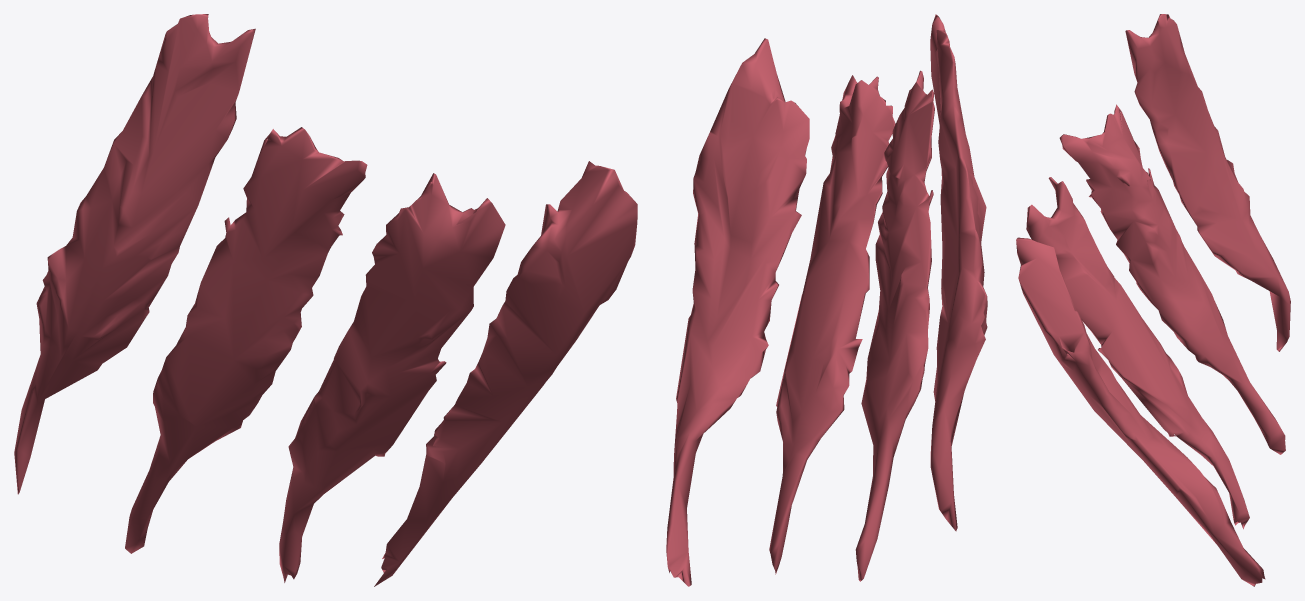
3 renders of one model, left to right at view 1: azimuth 30°, elevation 25°; view 2: azimuth 150°, elevation 25°; view 3: azimuth 270°, elevation 25°, orthographic. The views are drawn at different scales.
Visible parts, largest first — view 1: 右侧足骨间背侧肌; view 2: 右侧足骨间背侧肌; view 3: 右侧足骨间背侧肌.
Part boxes in pixels (box(x1,y1,x2,y2)): 右侧足骨间背侧肌: box(14, 14, 637, 586); 右侧足骨间背侧肌: box(666, 14, 987, 586); 右侧足骨间背侧肌: box(1016, 14, 1290, 586).
Bounding box in the file's own units: 0.0756 × 0.1064 × 0.0543.
